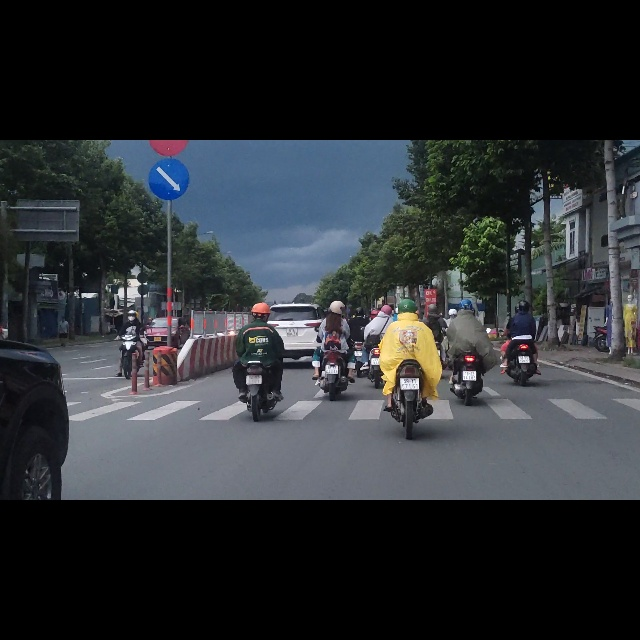bien_cam: (148, 30, 189, 107)
